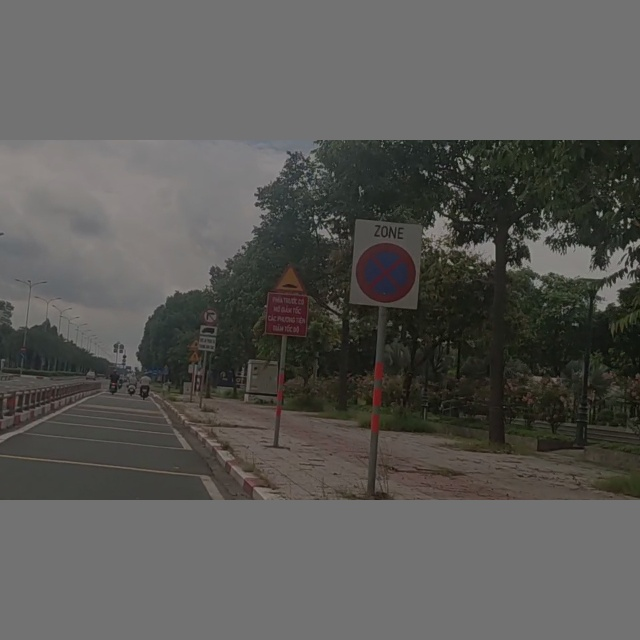P.123b: (201, 307, 218, 323)
P.130: (351, 219, 421, 309)
S.505a*Xe tai: (198, 324, 217, 352)
W.221b: (273, 264, 305, 293)
